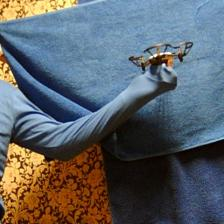drone: (128, 41, 194, 70)
